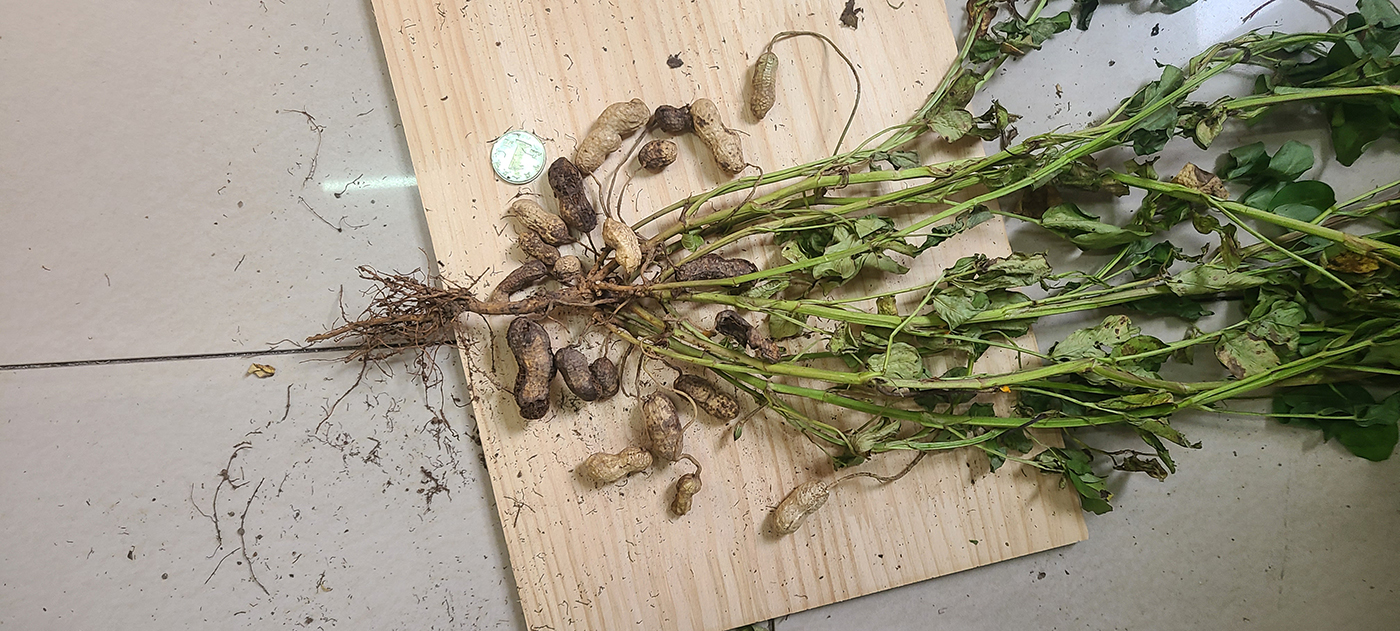h: (655, 98, 745, 173), (577, 97, 653, 172), (770, 481, 825, 538), (673, 372, 739, 419), (645, 393, 684, 460), (586, 448, 652, 487), (514, 199, 567, 245), (603, 219, 642, 278), (490, 261, 549, 299), (750, 51, 776, 120), (519, 232, 561, 266), (674, 475, 702, 519), (591, 358, 622, 397), (638, 142, 678, 171), (555, 256, 582, 282)
l: (507, 317, 555, 415), (548, 157, 600, 230), (716, 310, 782, 364), (677, 255, 764, 292), (557, 348, 602, 403)
